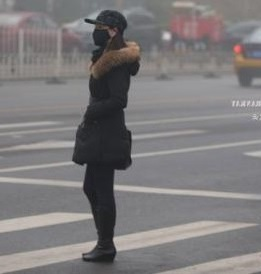person: (71, 8, 141, 264)
